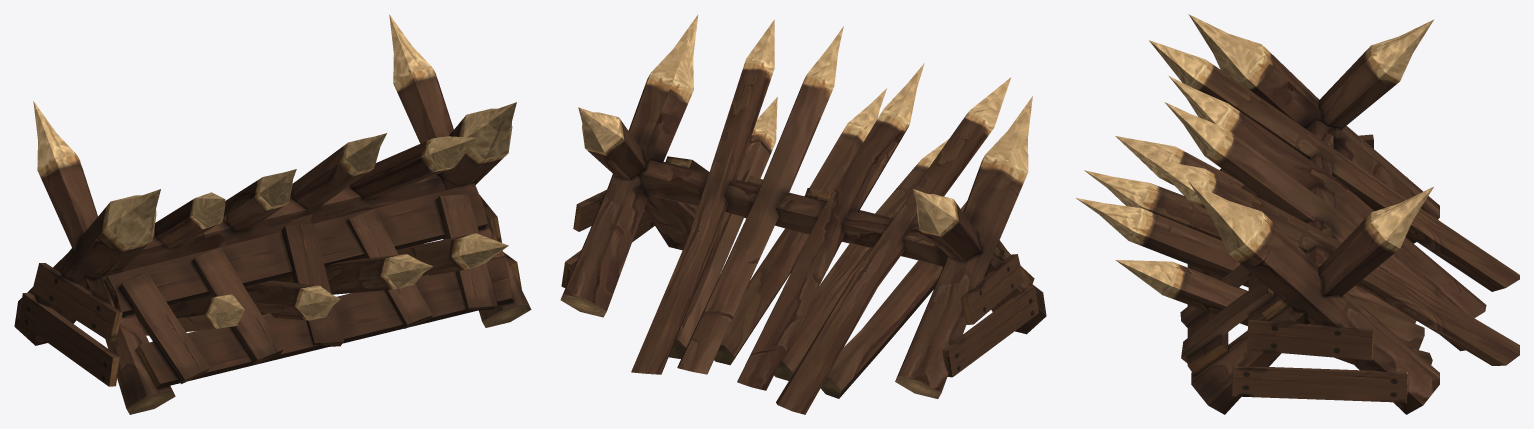
The model's file is barricade_c.FBX.
3 views of the same model, side by side, from view 1: azimuth 30°, elevation 25°; view 2: azimuth 150°, elevation 25°; view 3: azimuth 270°, elevation 25° (orthographic). The views are drawn at different scales.
Visible parts, largest first — view 1: barricade_c; view 2: barricade_c; view 3: barricade_c.
Boxes of the visible parts, left/top/right/bottom form: barricade_c: left=14, top=14, right=531, bottom=414; barricade_c: left=560, top=14, right=1046, bottom=414; barricade_c: left=1076, top=14, right=1519, bottom=414.
Bounding box in the file's own units: 83.67 × 50.33 × 78.49.
